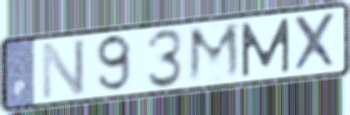3: (144, 27, 185, 91)
9: (93, 33, 135, 95)
M: (185, 20, 244, 86), (238, 16, 292, 79)
N: (39, 36, 88, 103)
X: (290, 10, 341, 75)
